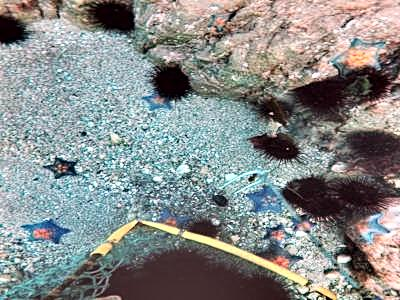urchin: (142, 247, 211, 291), (84, 1, 146, 35), (336, 172, 386, 214), (290, 78, 346, 113), (148, 61, 193, 102), (347, 126, 395, 160), (98, 263, 152, 293), (346, 65, 392, 100), (250, 130, 301, 158), (253, 94, 297, 126), (300, 194, 346, 224), (243, 270, 296, 296), (206, 261, 248, 292), (284, 173, 327, 200), (0, 12, 26, 46), (187, 218, 219, 237)
